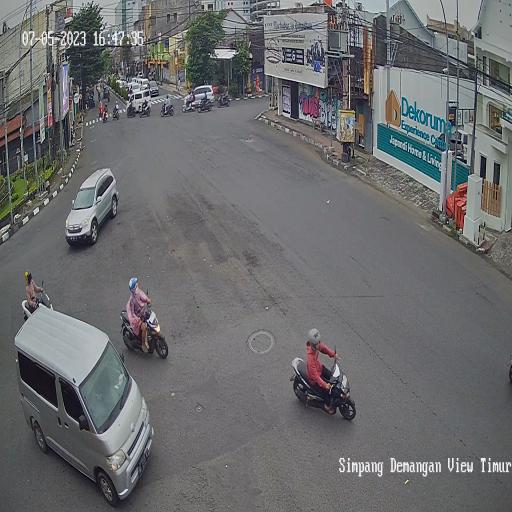mobil: (13, 304, 155, 510), (64, 167, 120, 249)
motor: (290, 345, 357, 422), (120, 288, 170, 362), (22, 280, 54, 326)
